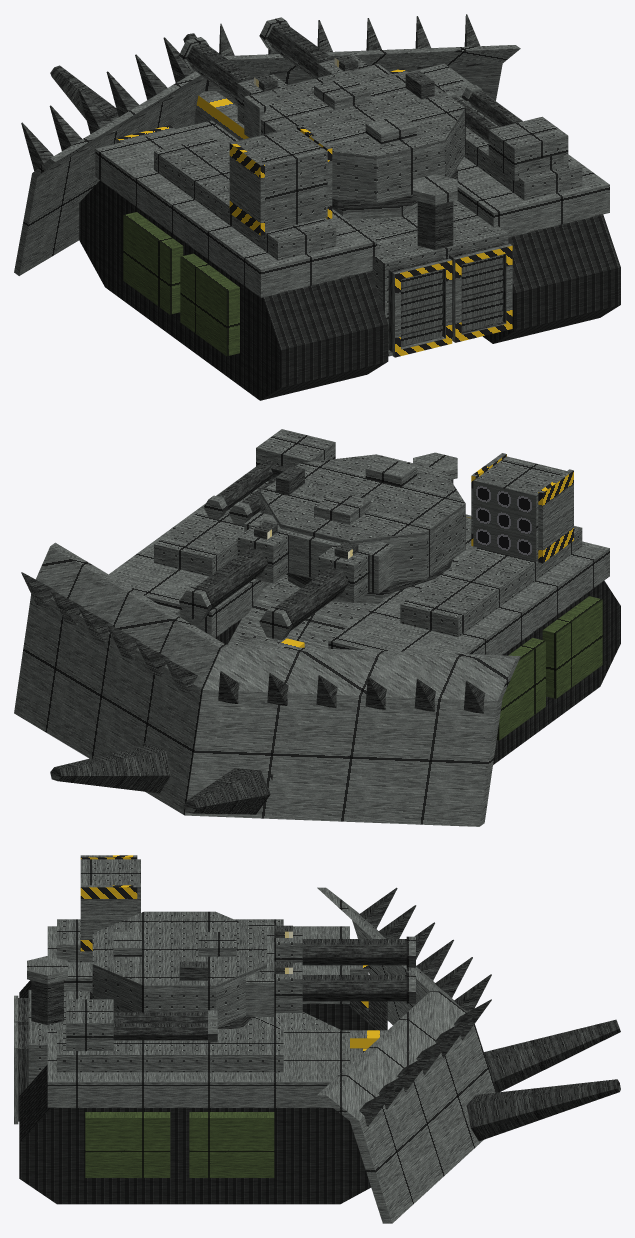
File: wild_boar.glb
The picture shows the model from 3 angles, top to bottom: view 1: azimuth 30°, elevation 25°; view 2: azimuth 150°, elevation 25°; view 3: azimuth 270°, elevation 25°; orthographic projection. The views are drawn at different scales.
Visible parts, largest first — view 1: tread, turret, skirt, tread.001, catcher, skirt.001, tread_deck, rack, hull, ablative, ablative.001, catcher_crest.001 (+32 smaller); view 2: catcher, catcher.001, turret, catcher_crest, skirt, catcher_crest.001, tread_deck, skirt.001, ablative, tread, hull, rack_face (+29 smaller); view 3: tread.001, catcher.001, turret, skirt.001, tread_deck.001, catcher_crest.001, ablative.002, ablative.003, tusk.001, tusk, hull, barrel (+28 smaller).
Part boxes in pixels (x1,y1,x2,y2): tread: [79, 180, 388, 400]; turret: [260, 70, 465, 203]; skirt: [95, 120, 377, 297]; tread.001: [483, 214, 620, 343]; catcher: [14, 77, 206, 275]; skirt.001: [397, 63, 609, 237]; tread_deck: [154, 137, 336, 260]; rack: [235, 127, 327, 232]; hull: [348, 200, 508, 356]; ablative: [180, 253, 239, 356]; ablative.001: [123, 212, 183, 314]; catcher_crest.001: [223, 45, 520, 73]; catcher: [184, 690, 502, 826]; catcher.001: [14, 594, 202, 815]; turret: [260, 454, 465, 582]; catcher_crest: [203, 644, 520, 701]; skirt: [328, 536, 609, 655]; catcher_crest.001: [35, 542, 225, 689]; tread_deck: [400, 526, 582, 637]; skirt.001: [109, 467, 270, 637]; ablative: [542, 596, 602, 698]; tread: [493, 580, 620, 764]; hull: [227, 517, 471, 648]; rack_face: [473, 481, 535, 561]; tread.001: [19, 1064, 370, 1204]; catcher.001: [350, 1024, 496, 1223]; turret: [92, 911, 266, 1027]; skirt.001: [47, 1030, 349, 1107]; tread_deck.001: [57, 1029, 283, 1072]; catcher_crest.001: [317, 991, 466, 1120]; ablative.002: [85, 1112, 170, 1177]; ablative.003: [189, 1112, 274, 1177]; tusk.001: [466, 1079, 620, 1141]; tusk: [484, 1019, 620, 1092]; hull: [28, 989, 341, 1085]; barrel: [302, 939, 406, 965].
Size of the model in its own units: 104 by 47.5 by 129.
Materials: 11 (11 with a texture image).
